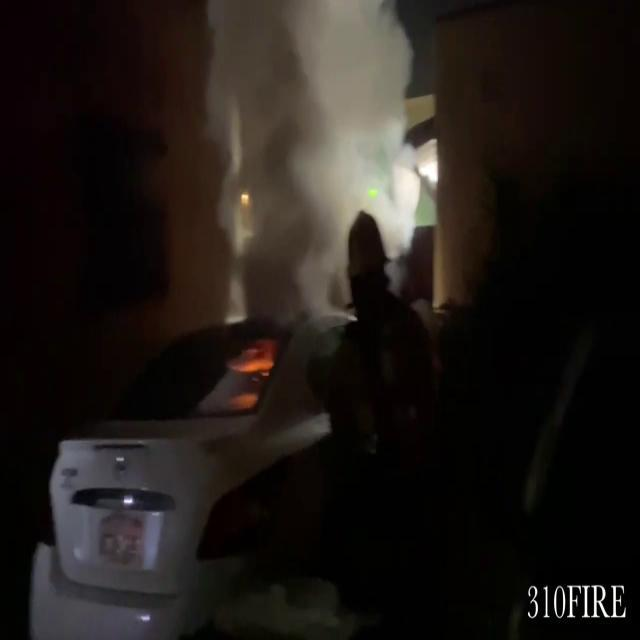Smoke: (142, 0, 458, 334)
